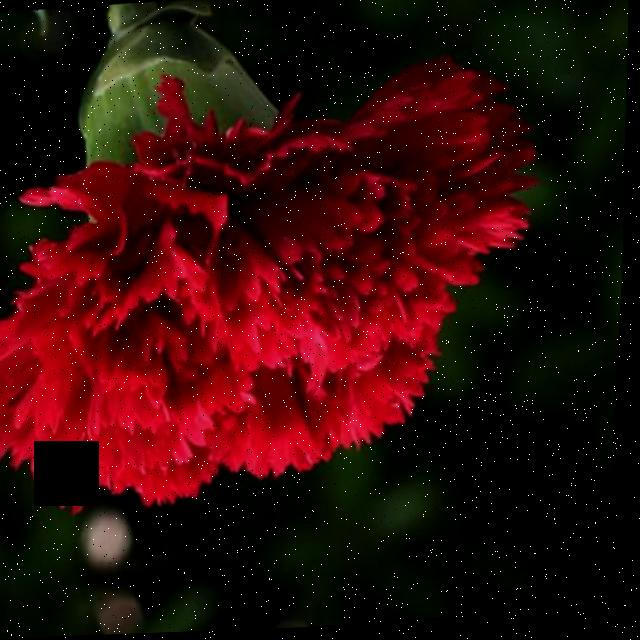carnation: (0, 21, 537, 517)
